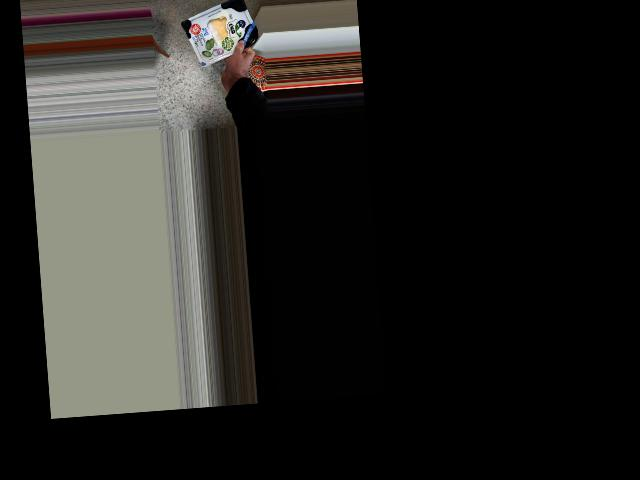cheese: (188, 9, 251, 61)
